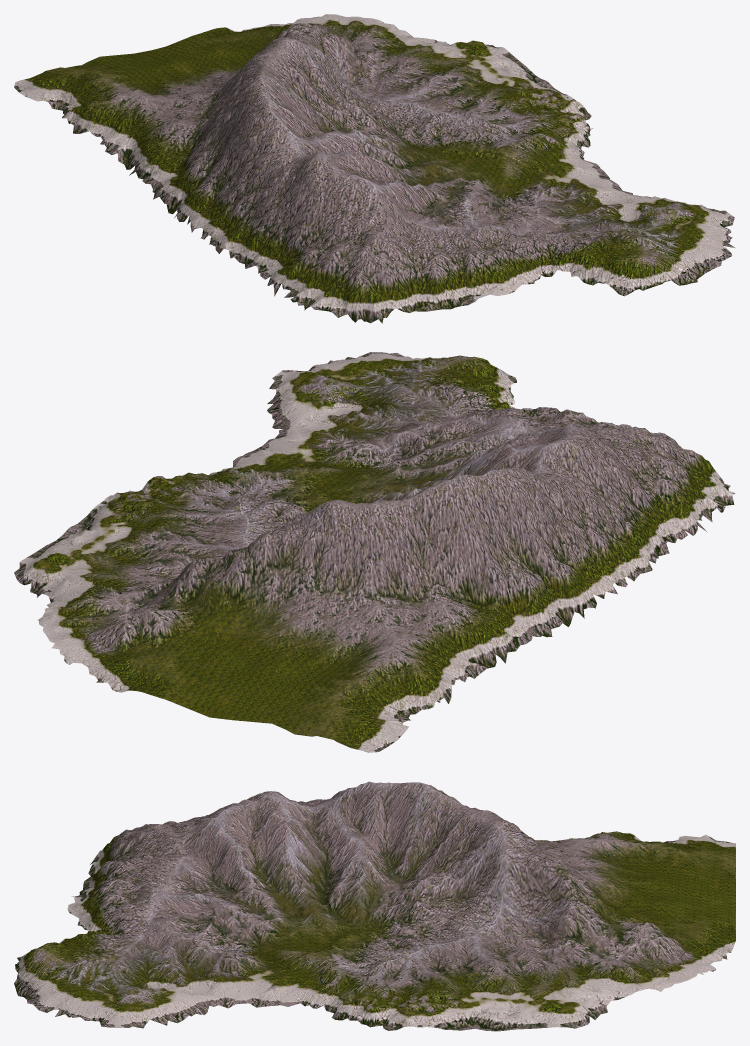
The model's file is Dhz_zsshan_05.FBX.
The picture shows the model from 3 angles, top to bottom: view 1: azimuth 30°, elevation 25°; view 2: azimuth 150°, elevation 25°; view 3: azimuth 270°, elevation 25°; orthographic projection. The views are drawn at different scales.
Parts seen in each view (by area): view 1: Dhz_zsshan_05; view 2: Dhz_zsshan_05; view 3: Dhz_zsshan_05.
Boxes of the visible parts, bbox=[...] form: Dhz_zsshan_05: bbox=[14, 14, 734, 323]; Dhz_zsshan_05: bbox=[14, 352, 735, 752]; Dhz_zsshan_05: bbox=[14, 781, 735, 1031].
Bounding box in the file's own units: 13.23 × 3.34 × 20.29.
